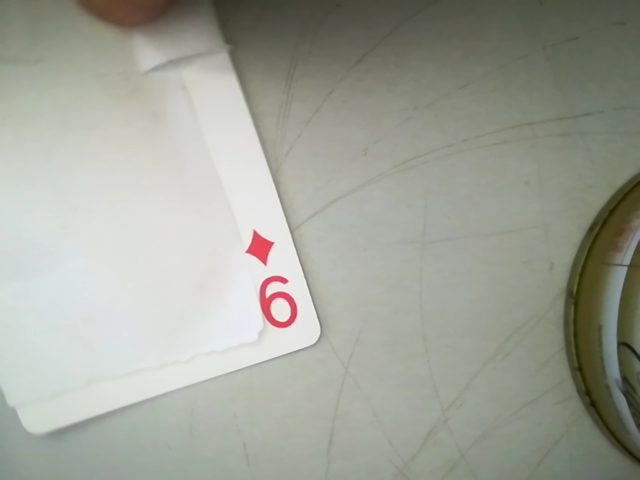fk 9: (239, 215, 308, 338)
